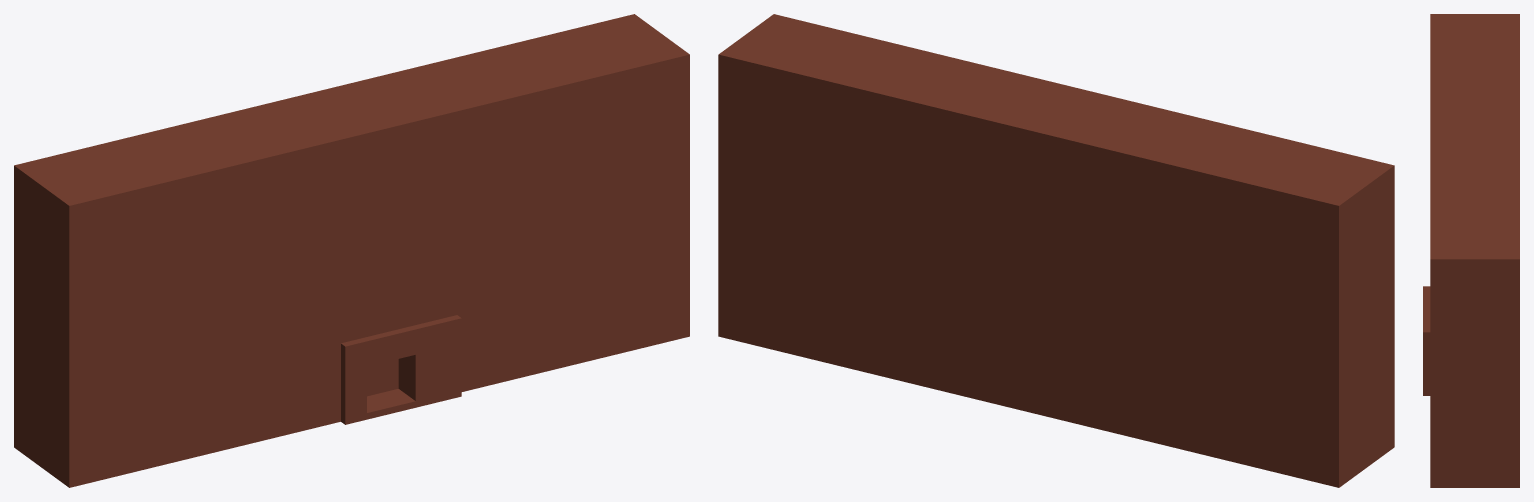
The model's file is lib_rightsidewall.fbx.
The picture shows the model from 3 angles, left to right: view 1: azimuth 30°, elevation 25°; view 2: azimuth 150°, elevation 25°; view 3: azimuth 270°, elevation 25°; orthographic projection. The views are drawn at different scales.
Visible parts, largest first — view 1: Wall2; view 2: Wall2; view 3: Wall2.
Part boxes in pixels (<box>): Wall2: <box>14,14,689,487</box>; Wall2: <box>718,14,1394,487</box>; Wall2: <box>1423,14,1519,487</box>.
Bounding box in the file's own units: 9616 × 4176 × 1605.
